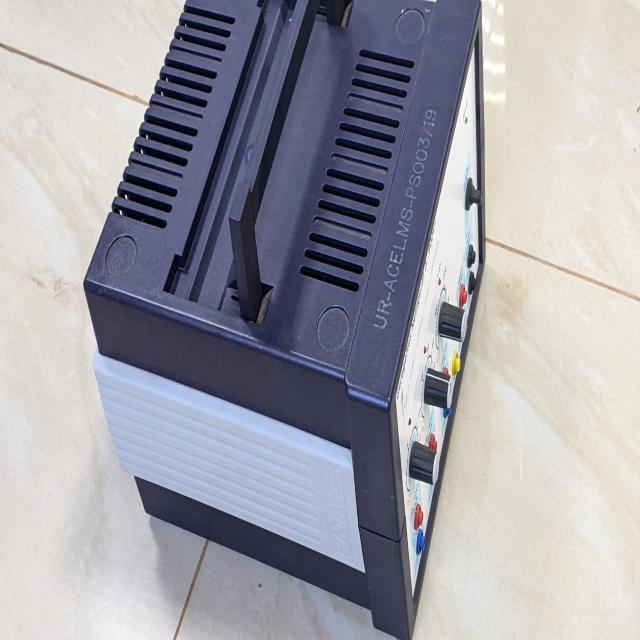Netzgerat Universal Power Supply: (70, 2, 506, 634)
